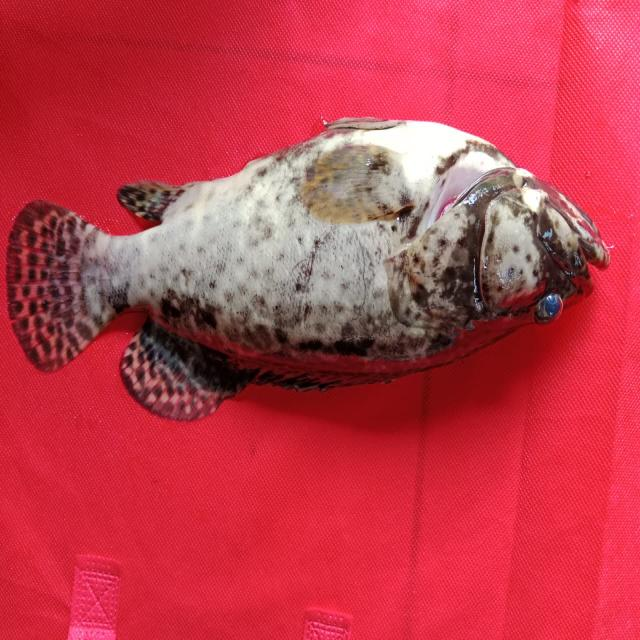ikan: (21, 123, 605, 433)
